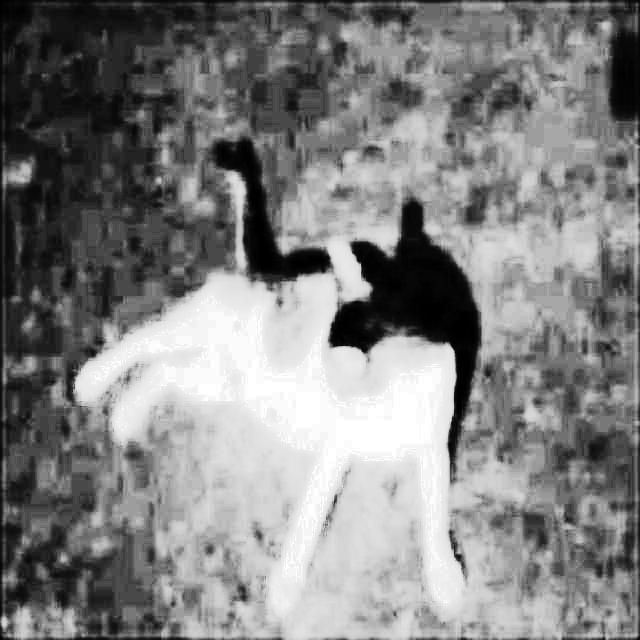Cat: (74, 138, 470, 624)
